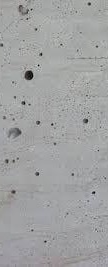Spalling: (1, 1, 108, 267)
